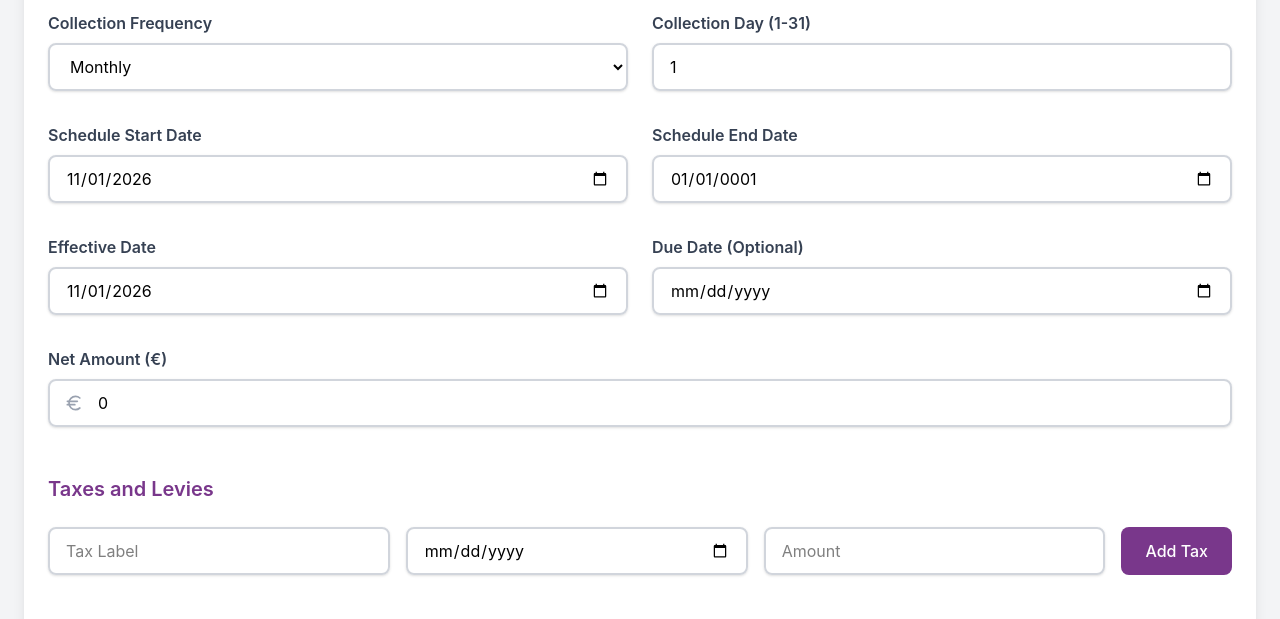
Test: NewSchedule › adds and removes a tax entry
The image size is (1280, 619).
Step 1. Type "LVY" into the field with placeholder "Tax Label" → (219, 551), box top-left (48, 527), bottom-right (390, 575)
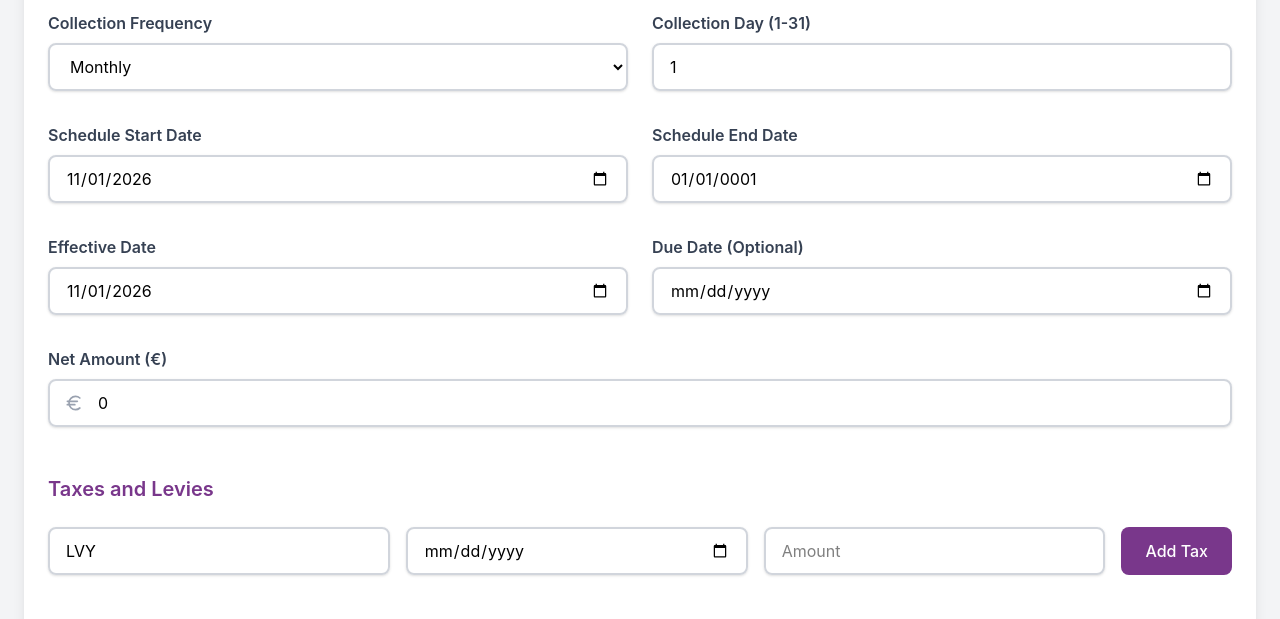
Step 2. Type "12.5" into the number field with placeholder "Amount" → (934, 551), box top-left (764, 527), bottom-right (1105, 575)
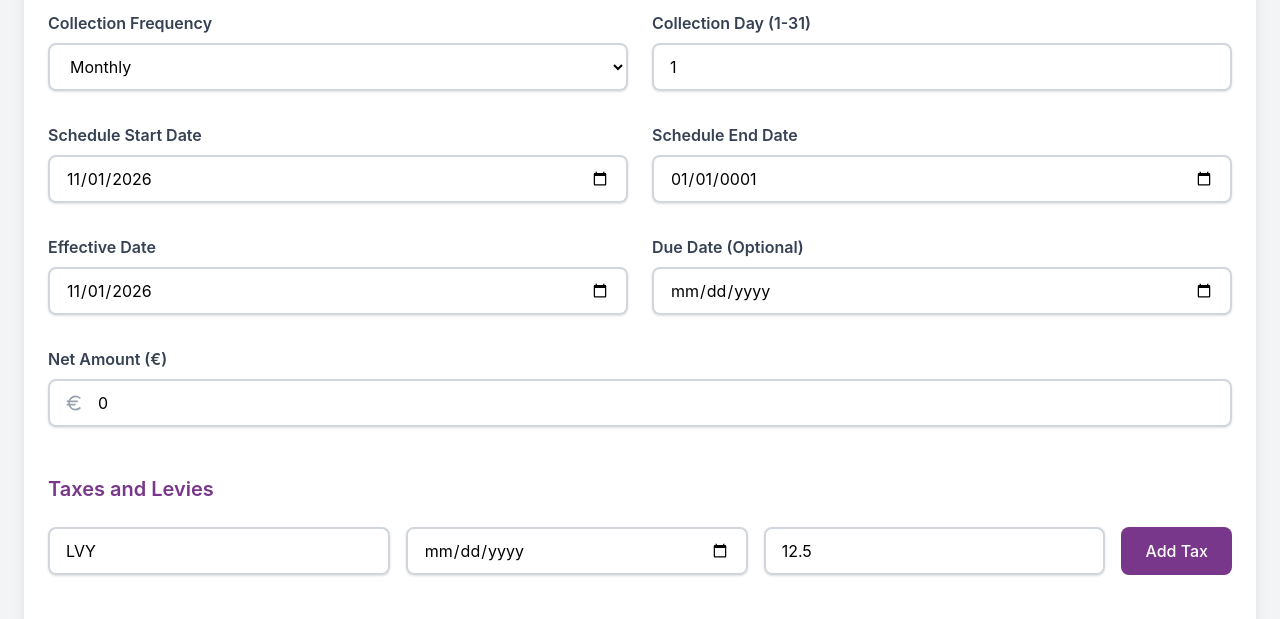
Step 3. Click the button "Add Tax" → (1177, 551), box top-left (1121, 527), bottom-right (1232, 575)
(page scrolled)
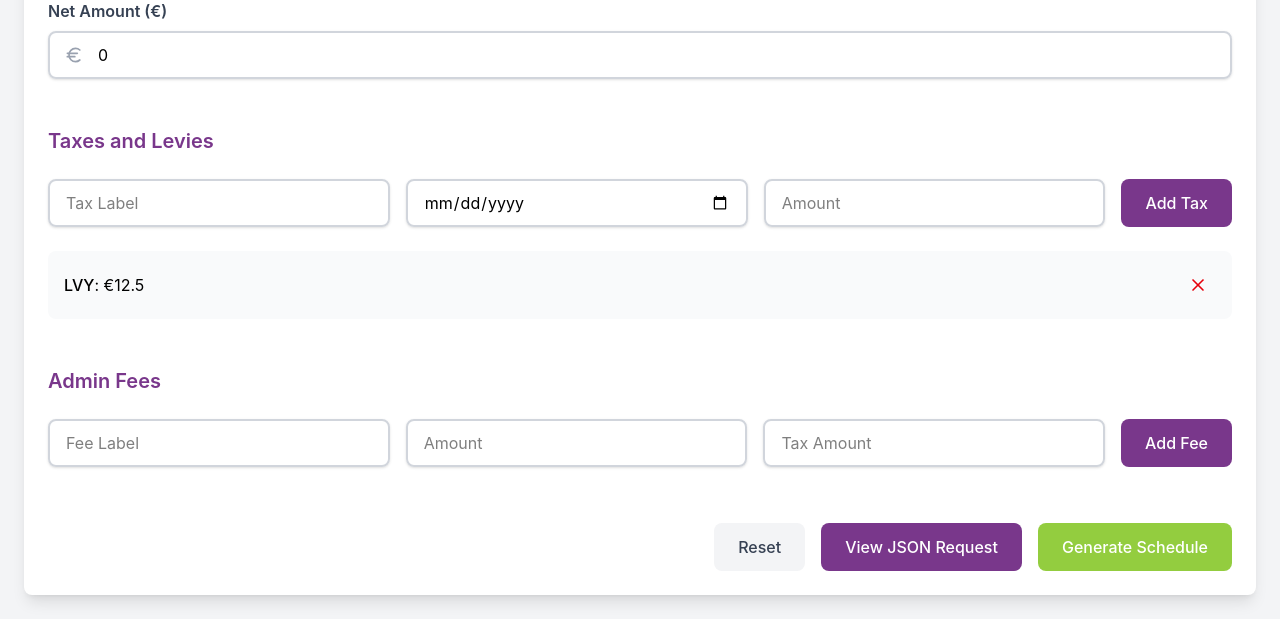
Expected: the text "LVY" is shown, top-left (64, 275), bottom-right (94, 295)
Expected: the text ": €12.5" is shown, top-left (94, 275), bottom-right (144, 295)
Step 4. Click the button titled "Remove tax" → (1198, 285), box top-left (1180, 267), bottom-right (1216, 303)
(page scrolled)
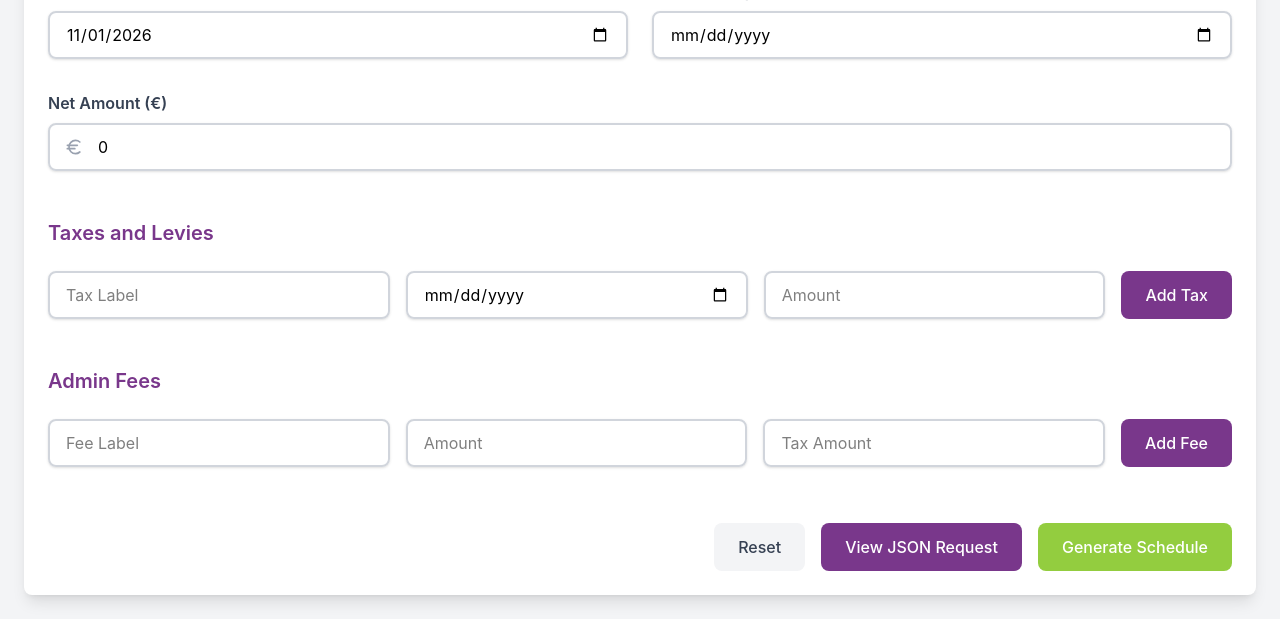
Expected: the text "LVY" is gone
